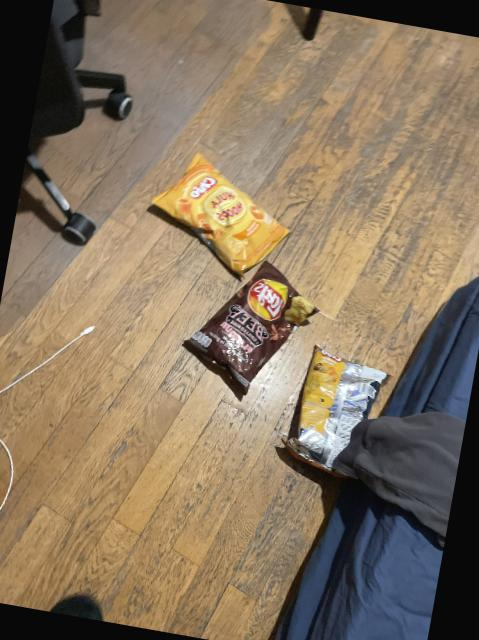Chio Cascaval 125g: (277, 346, 395, 480)
Chio Hula Hoops Cheese 70g: (138, 146, 300, 282)
Lays Beef Grilled Ribs 125g: (170, 251, 318, 393)
